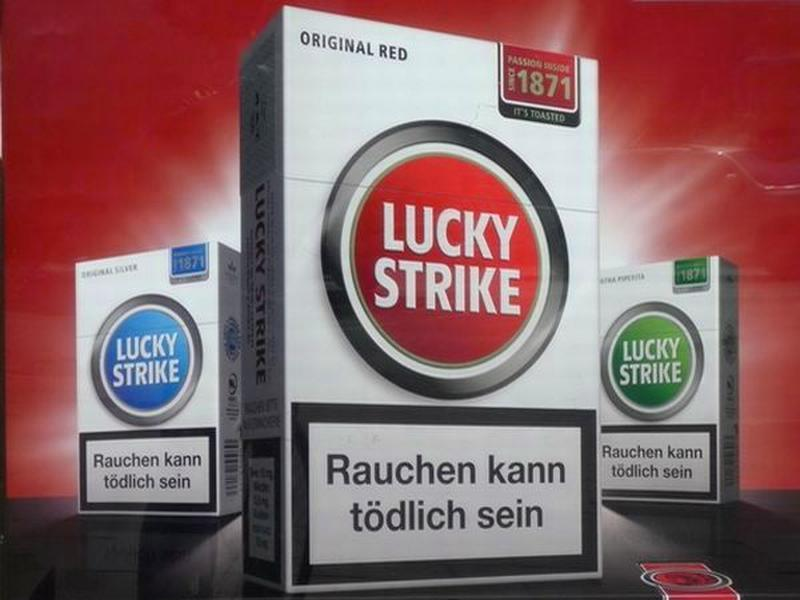lucky_strike_blue: (78, 258, 220, 514)
lucky_strike_red: (283, 56, 596, 575)
